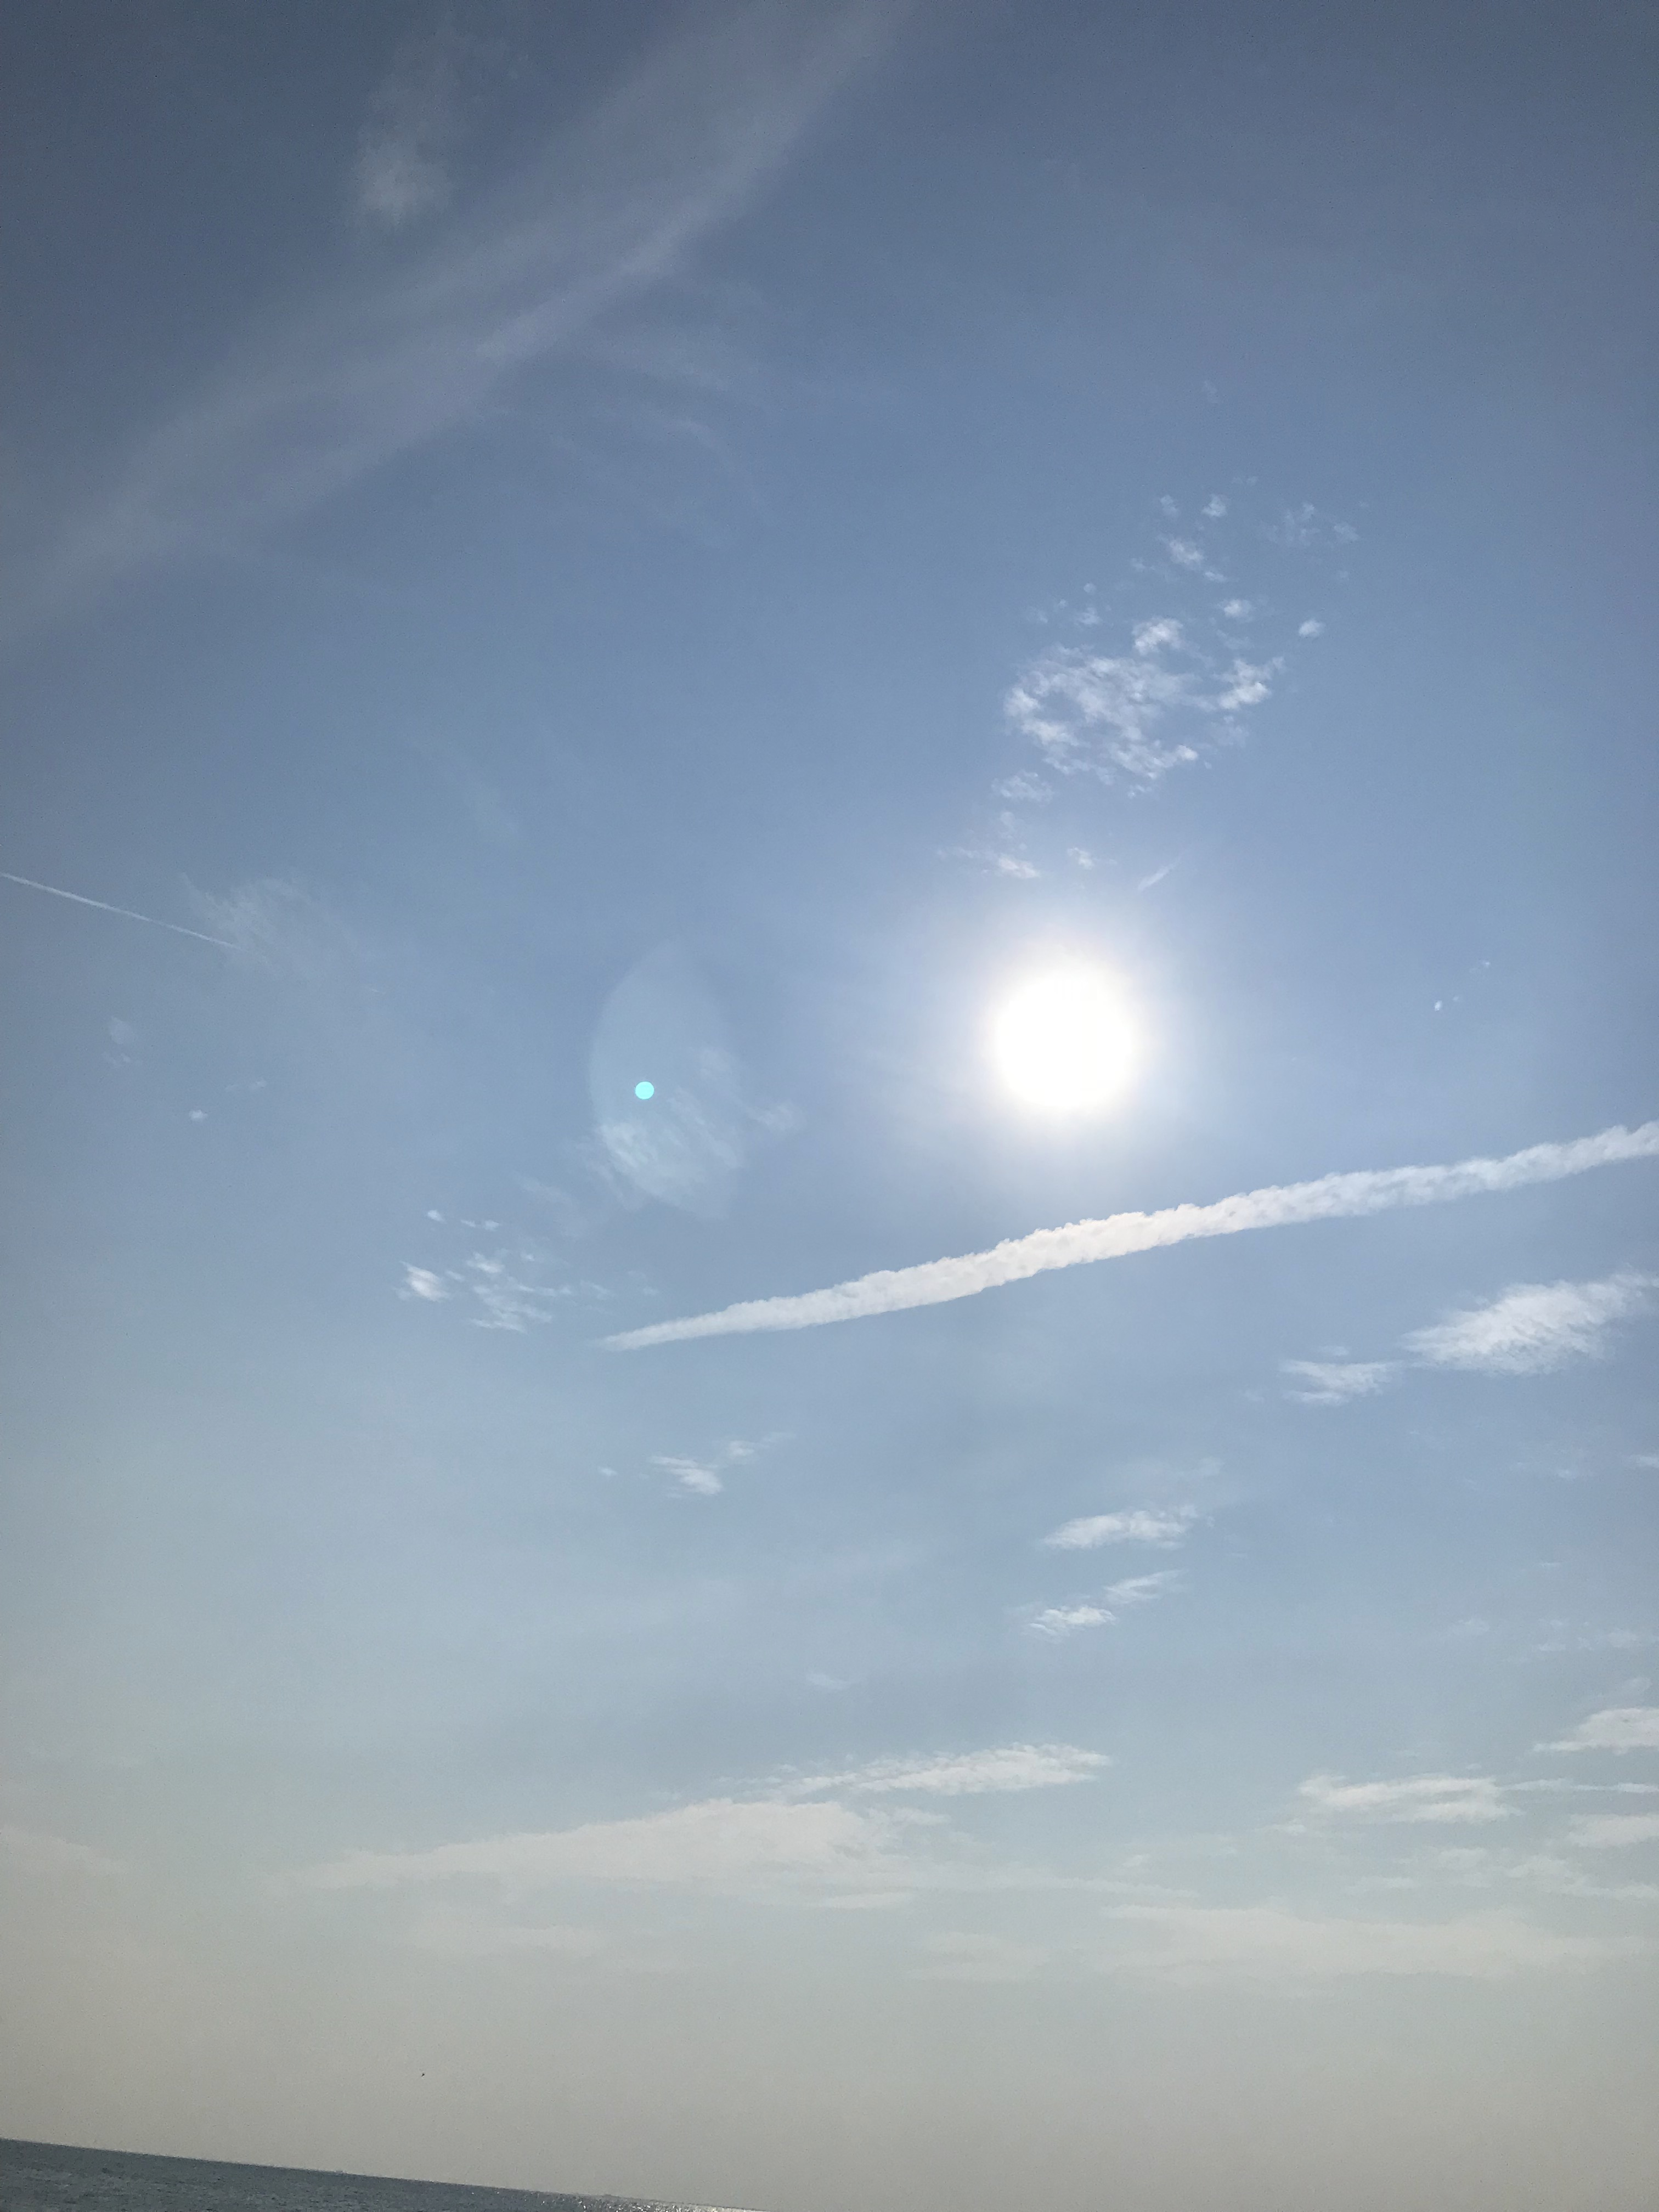flare: (633, 1080, 657, 1101)
